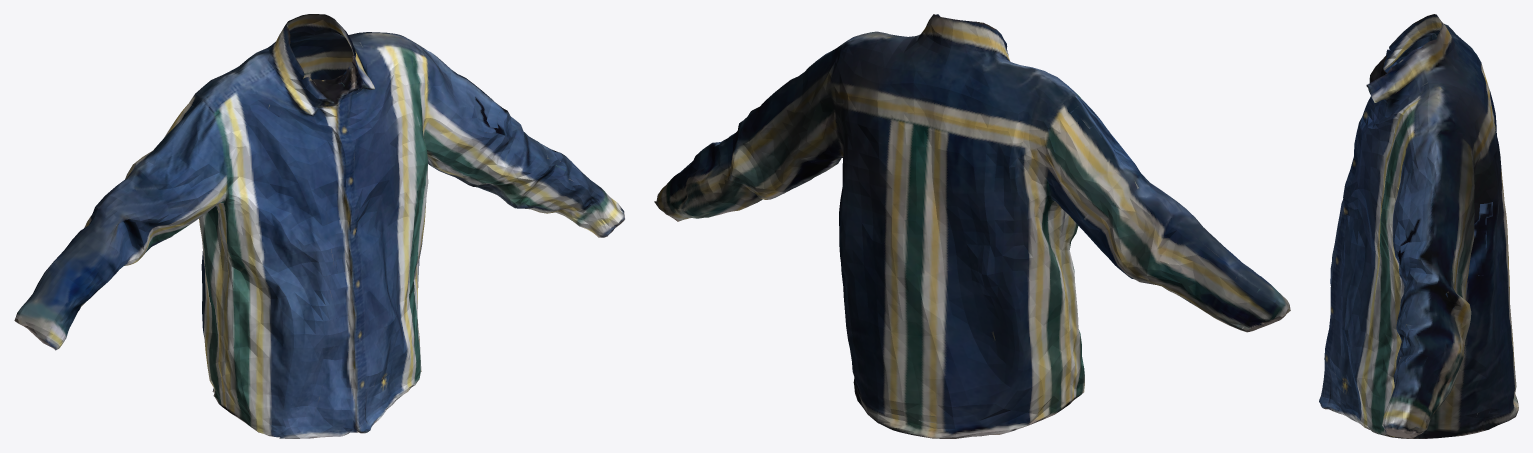
Rendered from shirt2.glb.
The picture shows the model from 3 angles, left to right: view 1: azimuth 30°, elevation 25°; view 2: azimuth 150°, elevation 25°; view 3: azimuth 270°, elevation 25°; orthographic projection. The views are drawn at different scales.
Visible parts, largest first — view 1: StripeShirt; view 2: StripeShirt; view 3: StripeShirt.
Boxes of the visible parts, x1,y1,x2,y2 form: StripeShirt: [14, 14, 624, 438]; StripeShirt: [654, 14, 1290, 438]; StripeShirt: [1319, 14, 1518, 438].
Bounding box in the file's own units: 1.36 × 0.8095 × 0.3825.
1 material, 1 textured.
